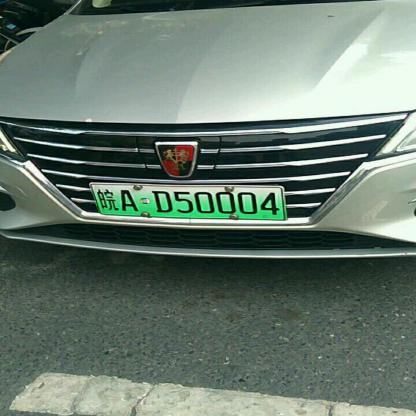lp: (90, 185, 286, 218)
